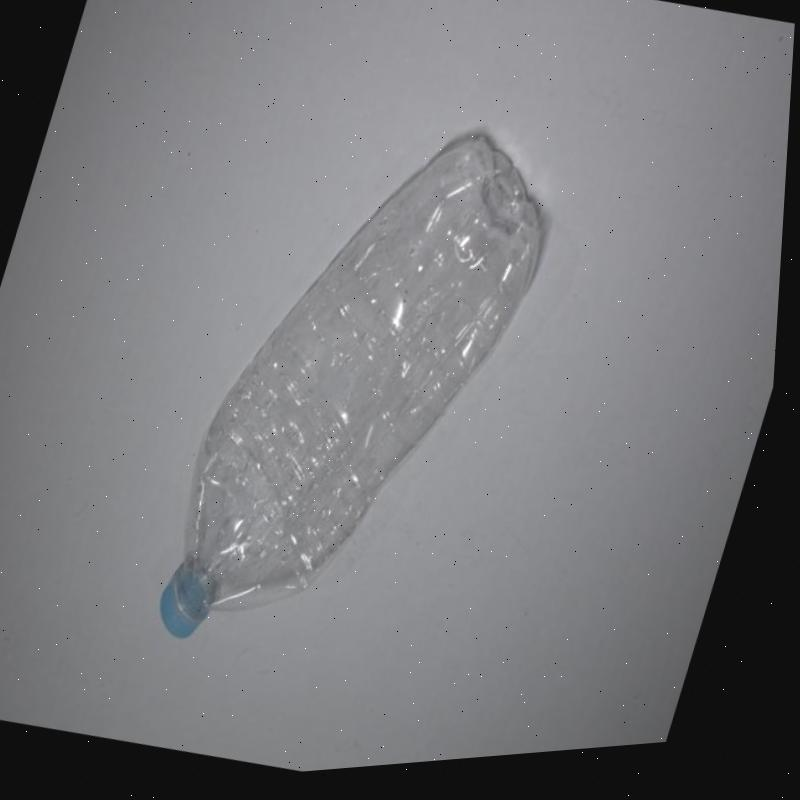botella: (146, 87, 581, 707)
